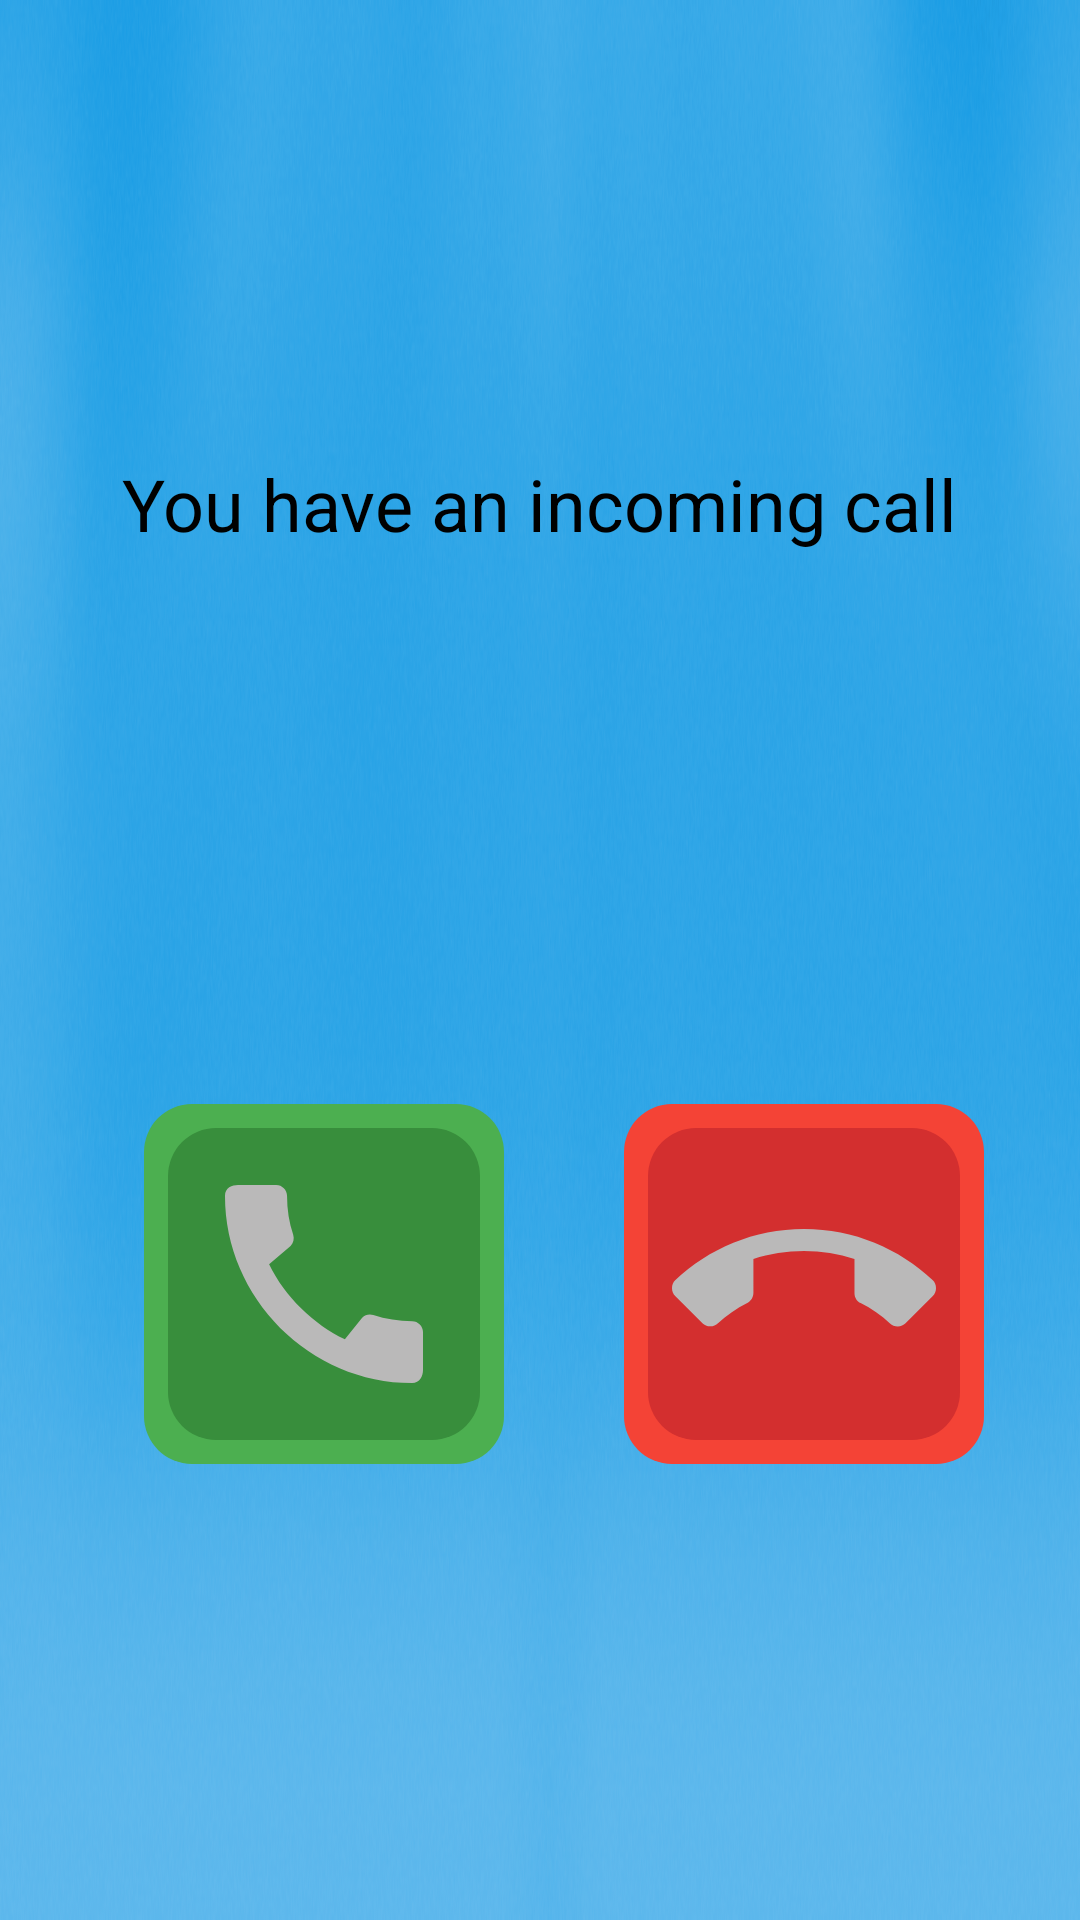

Icon bounding boxes for this 1080x1920 phone screenshot, format bbox(x1, y1, x2, y2):
Answer Call: bbox(144, 1104, 504, 1464)
Hang up: bbox(624, 1104, 984, 1464)
